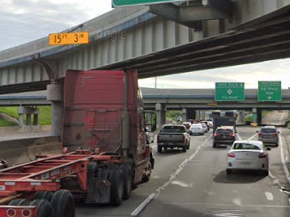1: (52, 33, 57, 44)
3: (72, 32, 79, 43)
5: (56, 33, 63, 44)
overheadsign: (49, 32, 89, 44)
